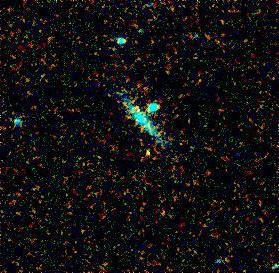star: (129, 136, 159, 166)
